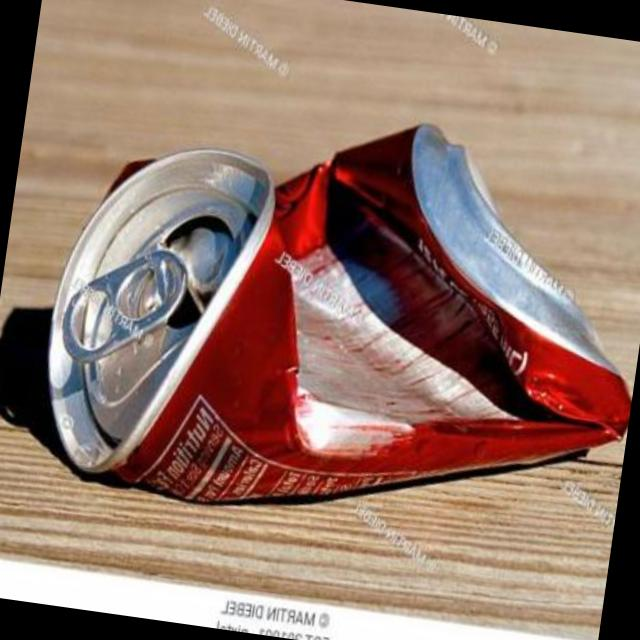metal: (51, 123, 633, 500)
